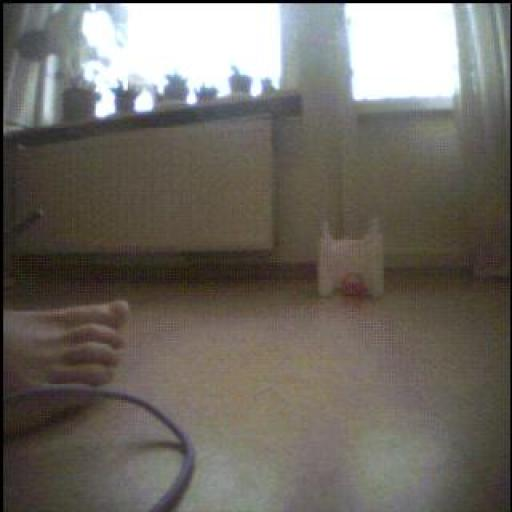Basket: (341, 271, 370, 305)
